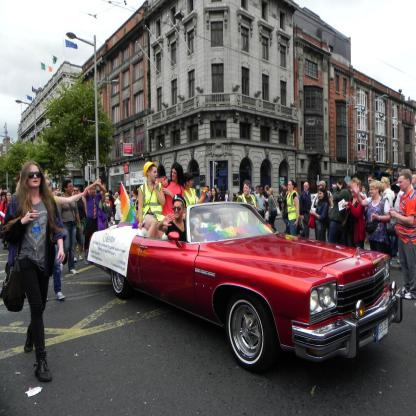Car: (93, 205, 402, 377)
